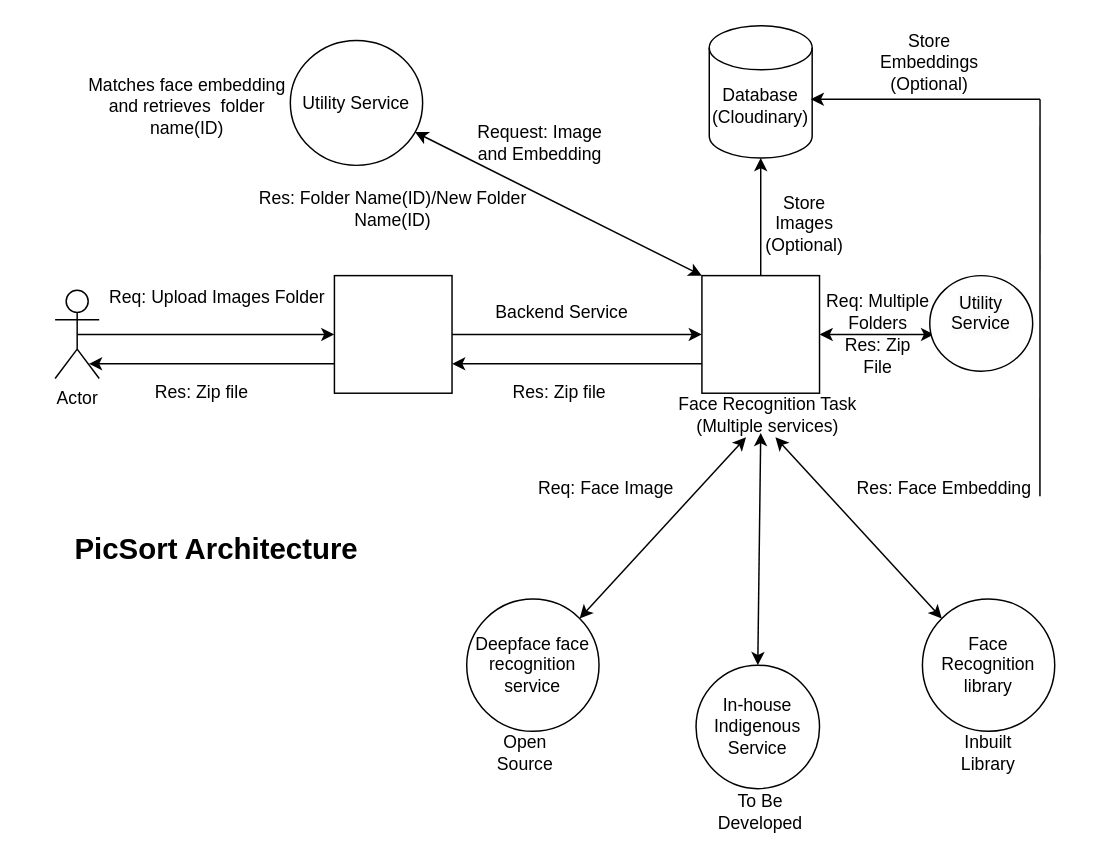
Image size: 1094x860. Some labels were removed from this diagram. Each missing label, with the box of its shape:
Backend Server: (700, 274, 820, 393)
UI Interface: (333, 274, 452, 393)
